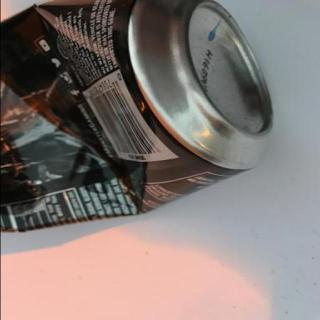Anorganik: (3, 0, 280, 240)
